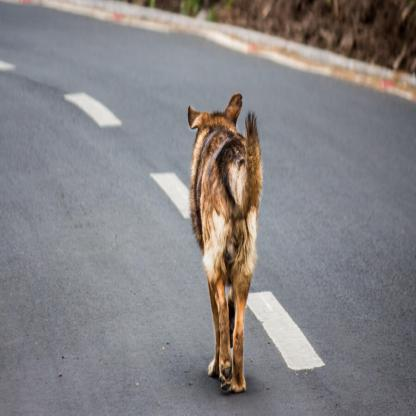dog: (182, 88, 268, 404)
